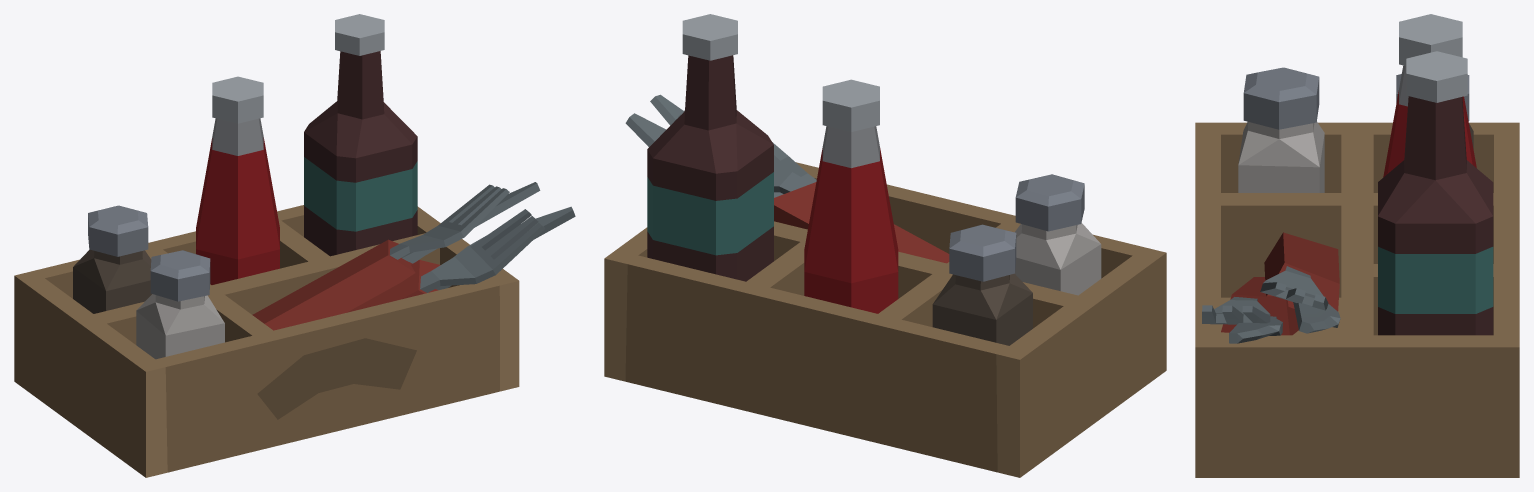
The model's file is SM_Prop_Cafe_Sauce_Box_01.obj.
3 views of the same model, side by side, from view 1: azimuth 30°, elevation 25°; view 2: azimuth 150°, elevation 25°; view 3: azimuth 270°, elevation 25° (orthographic). The views are drawn at different scales.
Parts seen in each view (by area): view 1: SM_Prop_Cafe_Sauce_Box_01_0; view 2: SM_Prop_Cafe_Sauce_Box_01_0; view 3: SM_Prop_Cafe_Sauce_Box_01_0.
Part boxes in pixels (left/top/right/bottom): SM_Prop_Cafe_Sauce_Box_01_0: left=14, top=14, right=575, bottom=477; SM_Prop_Cafe_Sauce_Box_01_0: left=604, top=14, right=1166, bottom=477; SM_Prop_Cafe_Sauce_Box_01_0: left=1195, top=14, right=1519, bottom=477.
Size of the model in its own units: 0.4064 by 0.2653 by 0.2082.
Materials: 1 (1 with a texture image).
